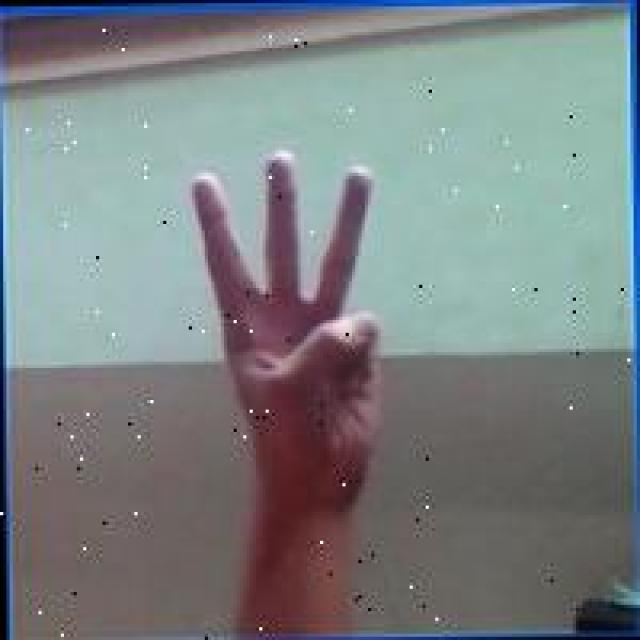W: (189, 144, 387, 502)
